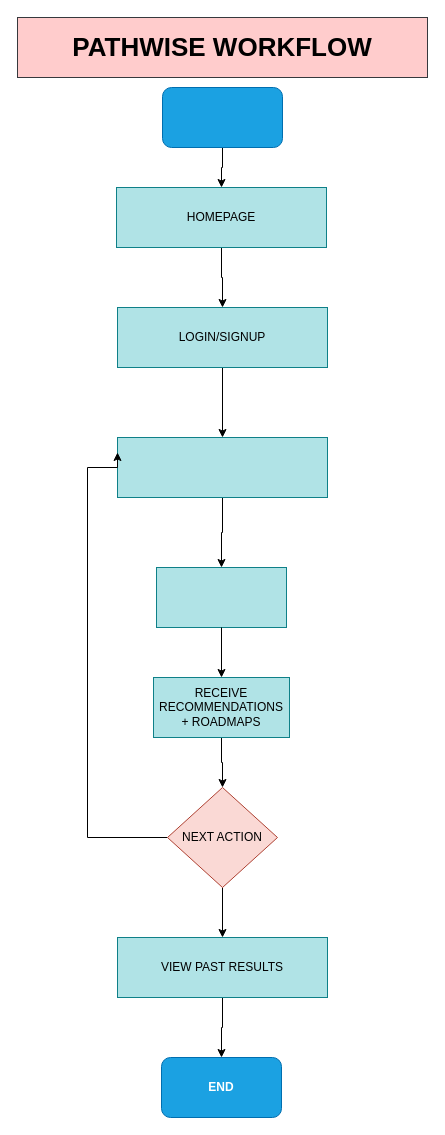
This 445x1135 diagram has some shape labels left out. The centre of each missing label's shape, as x and y in pixels:
COMPLETE 15 QUESTION ASSESMENT: the point at 222,467
PROCESS RESPONSE + AI ANALYSIS: the point at 221,597
START: the point at 222,117
